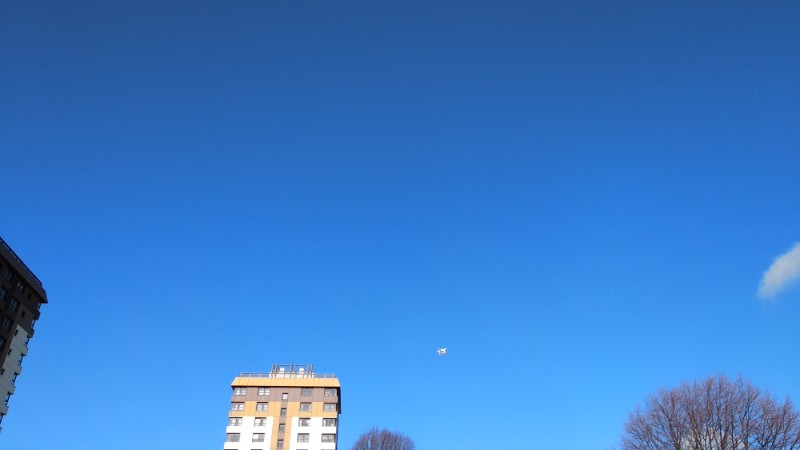drone: (436, 346, 447, 355)
